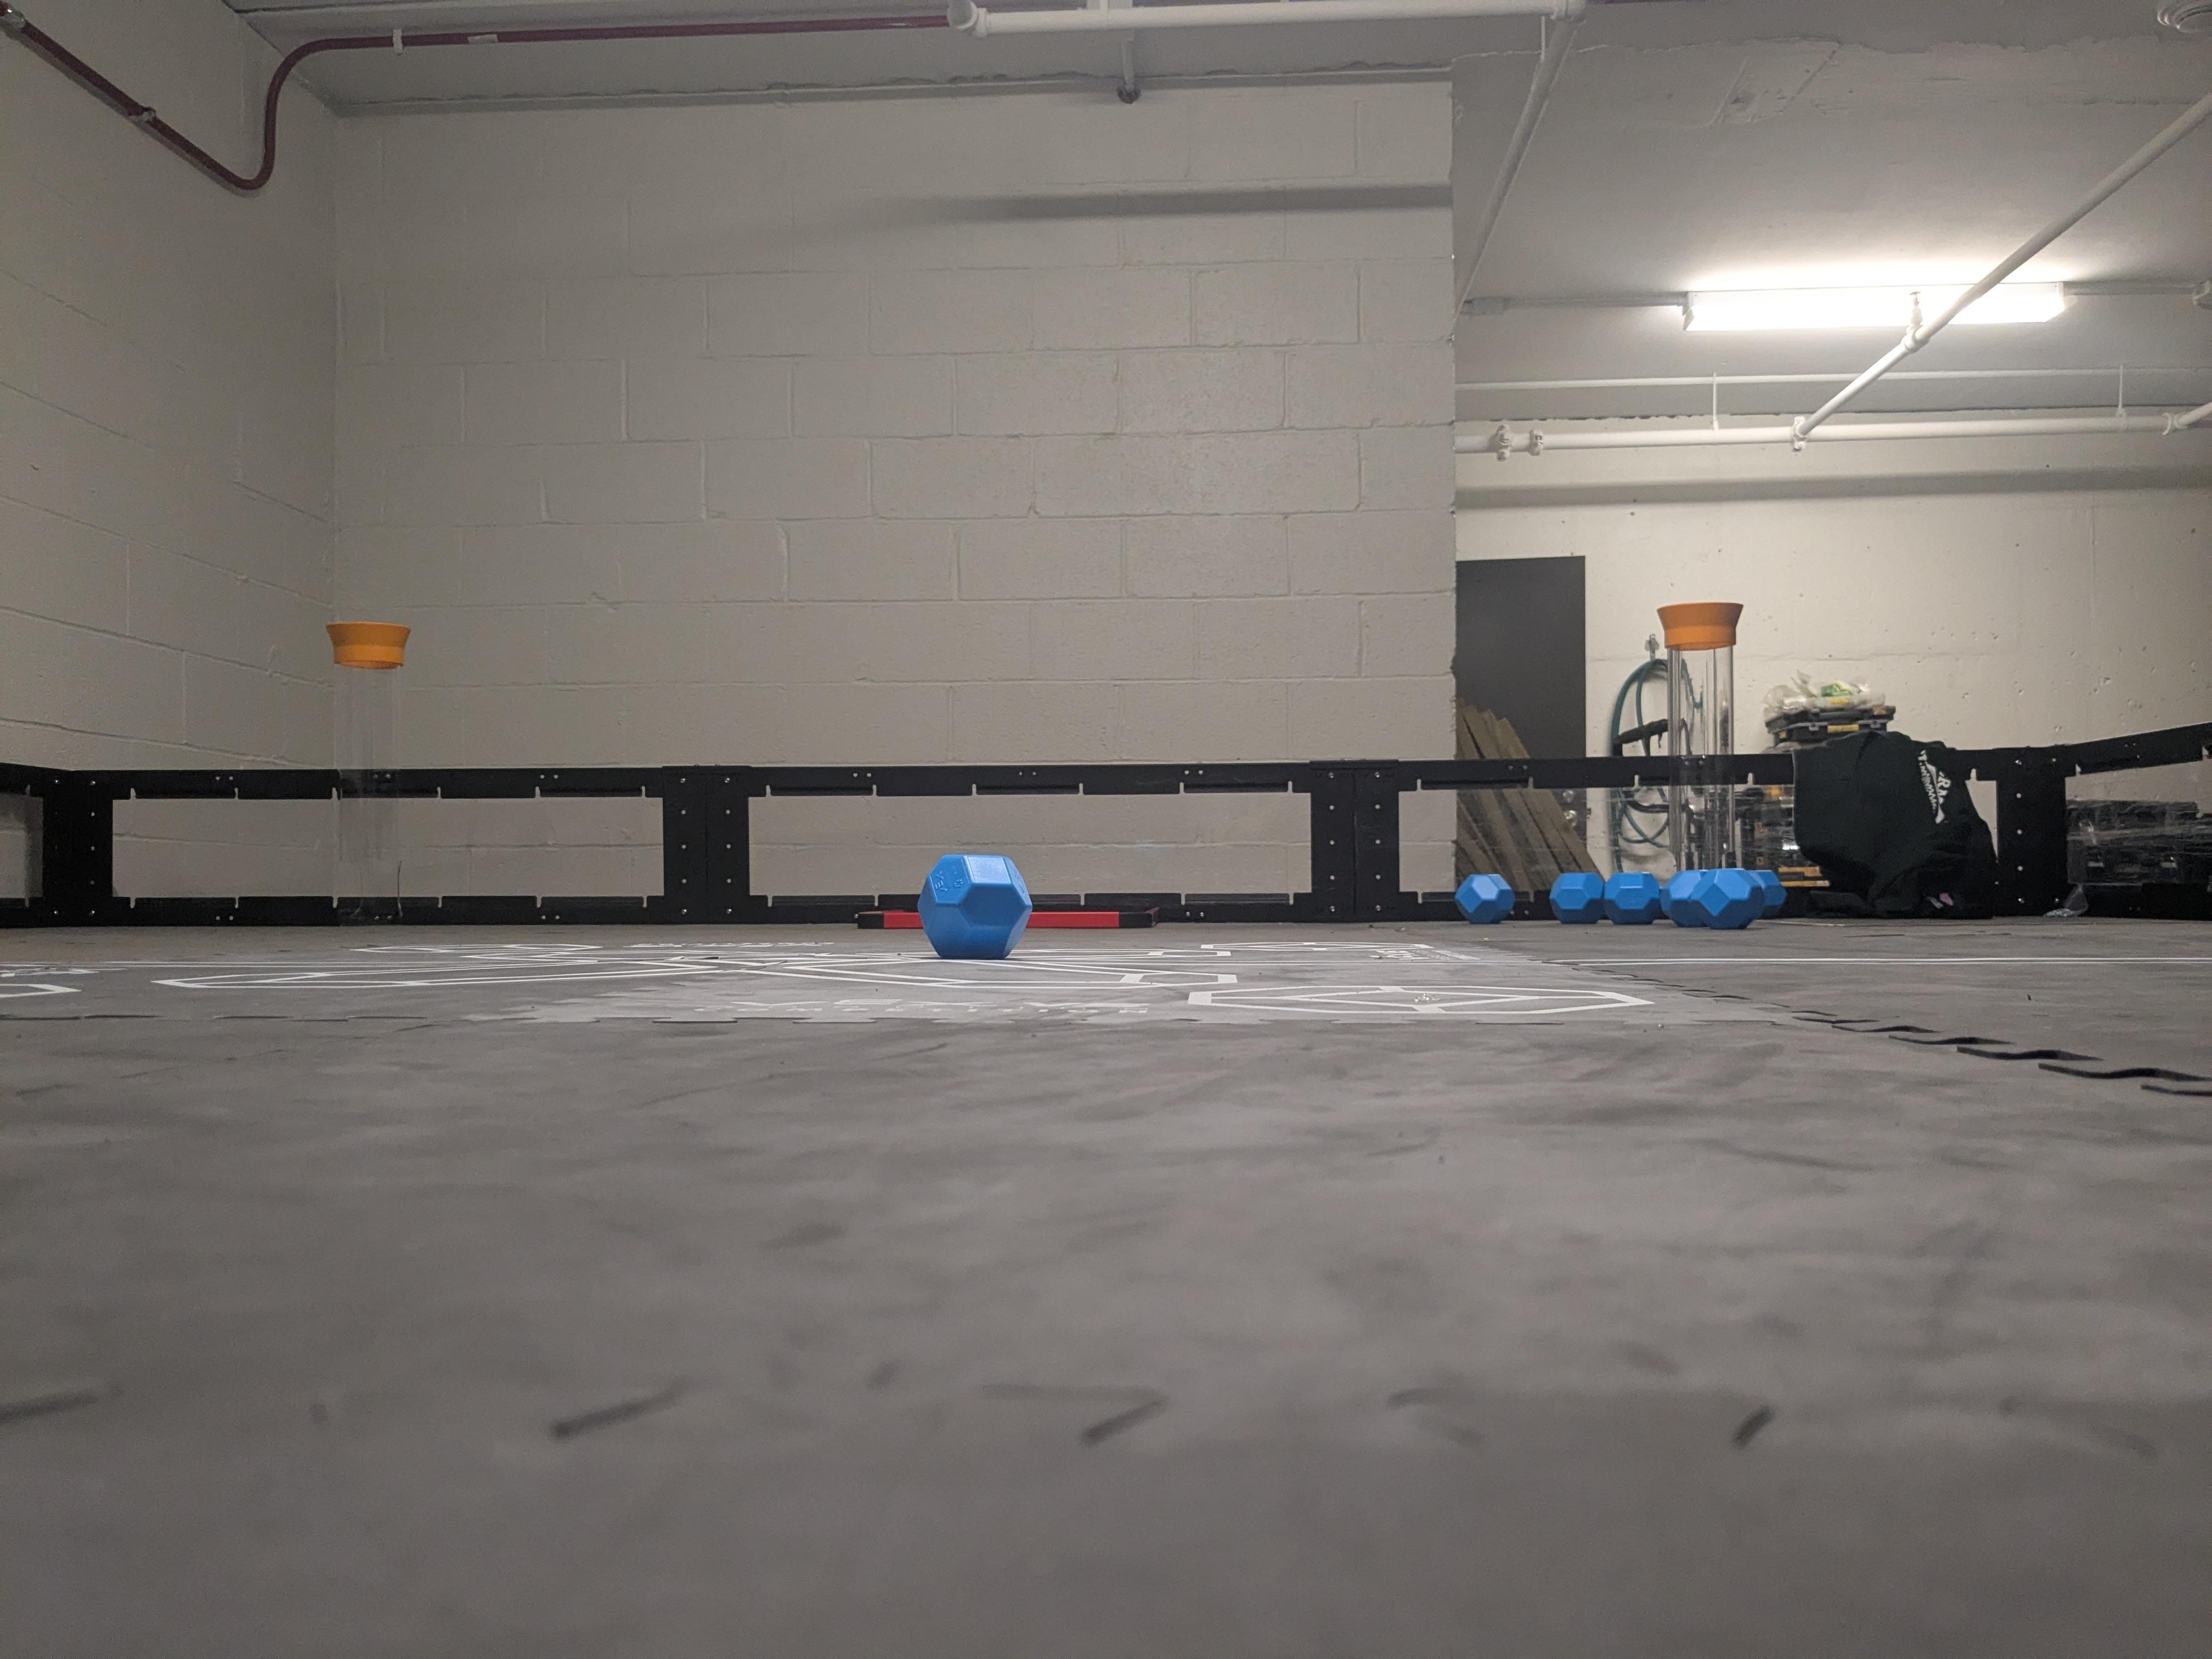Vex-Pieces-BLUE: (921, 854, 1029, 957), (1662, 868, 1778, 927), (1454, 873, 1515, 924), (1548, 871, 1606, 924), (1602, 871, 1660, 924)
